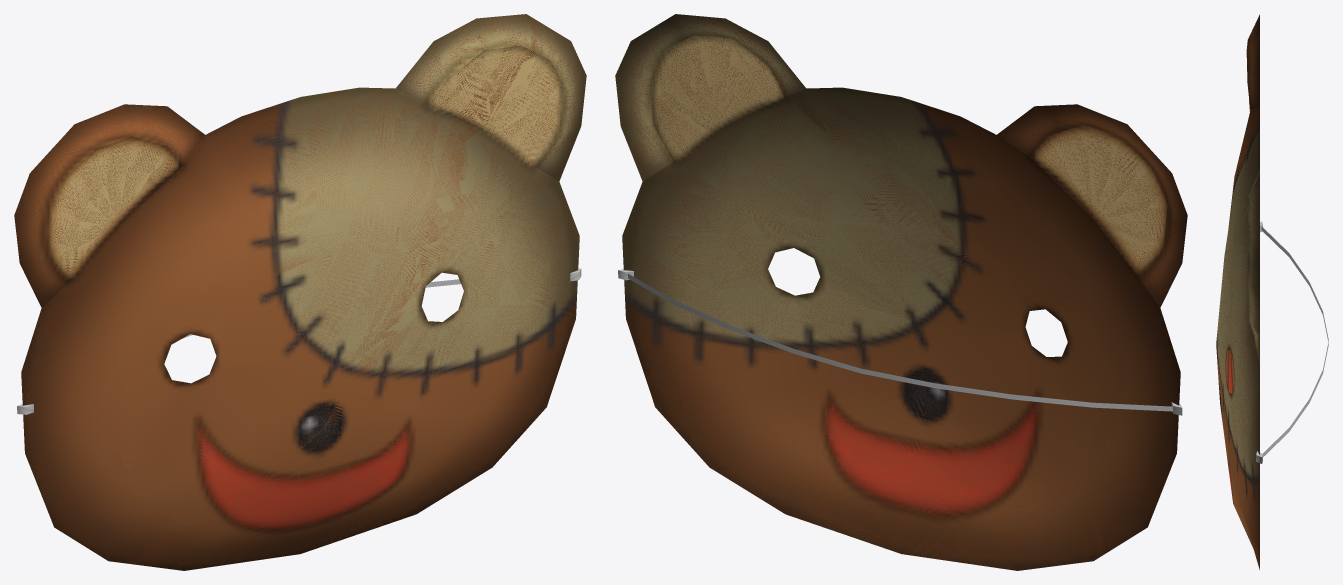
The model's file is jsf_Mask_17.fbx.
The picture shows the model from 3 angles, left to right: view 1: azimuth 30°, elevation 25°; view 2: azimuth 150°, elevation 25°; view 3: azimuth 270°, elevation 25°; orthographic projection. The views are drawn at different scales.
Parts seen in each view (by area): view 1: Mask_17; view 2: Mask_17, ElasticBand_17; view 3: Mask_17, ElasticBand_17.
Part boxes in pixels (bbox=[...]): Mask_17: bbox=[14, 14, 586, 570]; Mask_17: bbox=[615, 14, 1187, 570]; ElasticBand_17: bbox=[628, 274, 1172, 411]; Mask_17: bbox=[1216, 14, 1262, 569]; ElasticBand_17: bbox=[1261, 226, 1328, 456].
Bounding box in the file's own units: 23.31 × 19.17 × 4.63.
